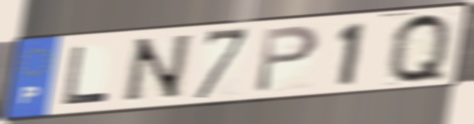1: (335, 20, 368, 88)
7: (192, 27, 253, 102)
L: (60, 44, 112, 107)
N: (117, 32, 195, 106)
P: (252, 23, 322, 95)
Q: (388, 11, 453, 86)
